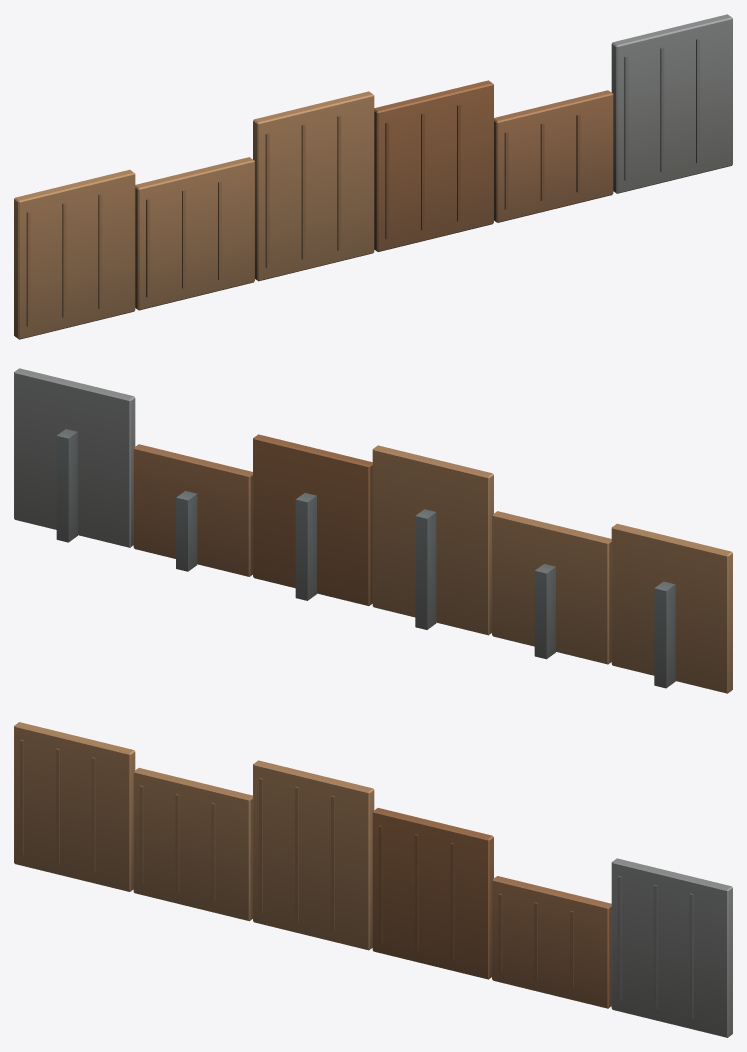
The model's file is plates.glb.
The picture shows the model from 3 angles, top to bottom: view 1: azimuth 30°, elevation 25°; view 2: azimuth 150°, elevation 25°; view 3: azimuth 330°, elevation 25°; orthographic projection.
Visible parts, largest first — view 1: plates; view 2: plates; view 3: plates.
Part boxes in pixels (x1,y1,x2,y2): plates: (14, 14, 732, 339); plates: (14, 368, 732, 693); plates: (14, 722, 732, 1037).
Size of the model in its own units: 11.96 by 2.54 by 0.46.
